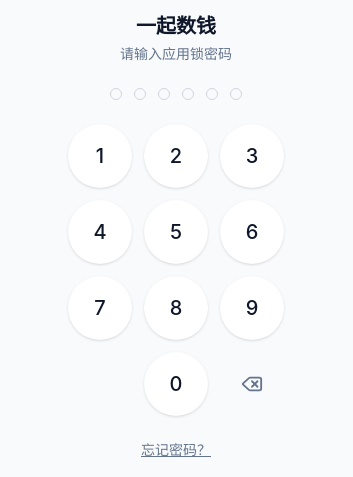
Test: UnlockPage › R64：从「忘记密码？」进入账户密码表单后能返回键盘
What coordinates should you click on to do the following:
click the button with test id "unlock-forgot"
I would click on:
 (176, 450)
Its box is [141,440,211,460].
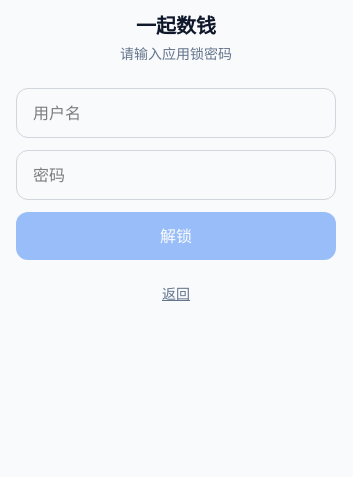
Now the form with test id "unlock-account-form" is shown, box [16,88,336,260]
What coordinates should you click on to do the following:
click the button with test id "unlock-back"
I would click on:
 (176, 294)
Its box is [162,284,190,304].
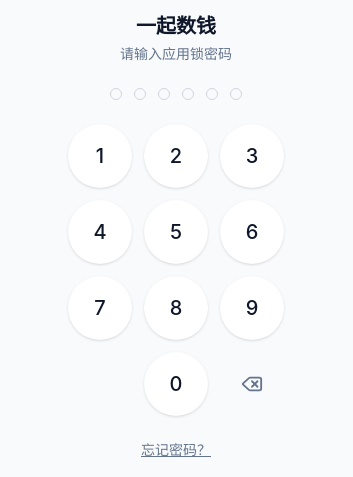
Now the button with test id "pin-key-1" is shown, box [68,124,132,188]
Now the button with test id "unlock-forgot" is shown, box [141,440,211,460]
